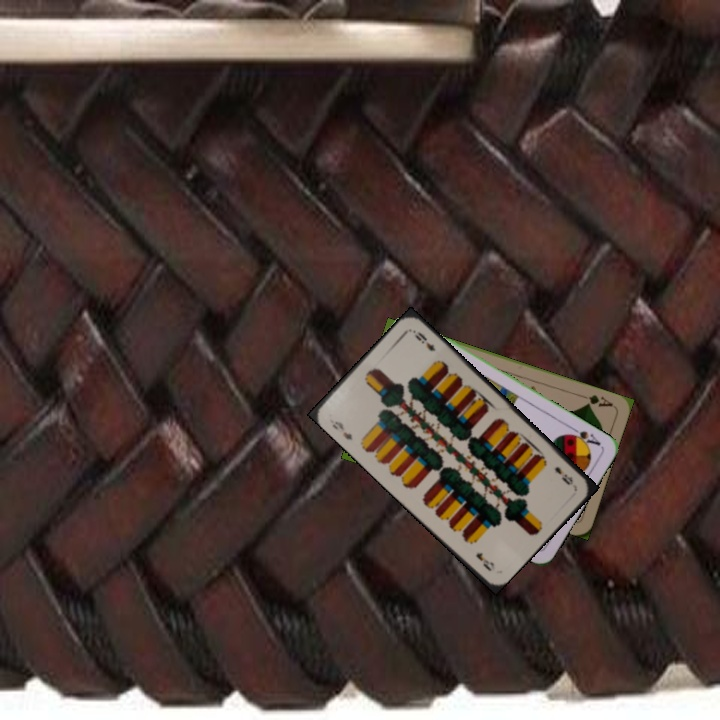E9: (328, 417, 355, 443), (550, 462, 576, 488)
GA: (576, 390, 615, 410)
SA: (563, 423, 603, 450)
